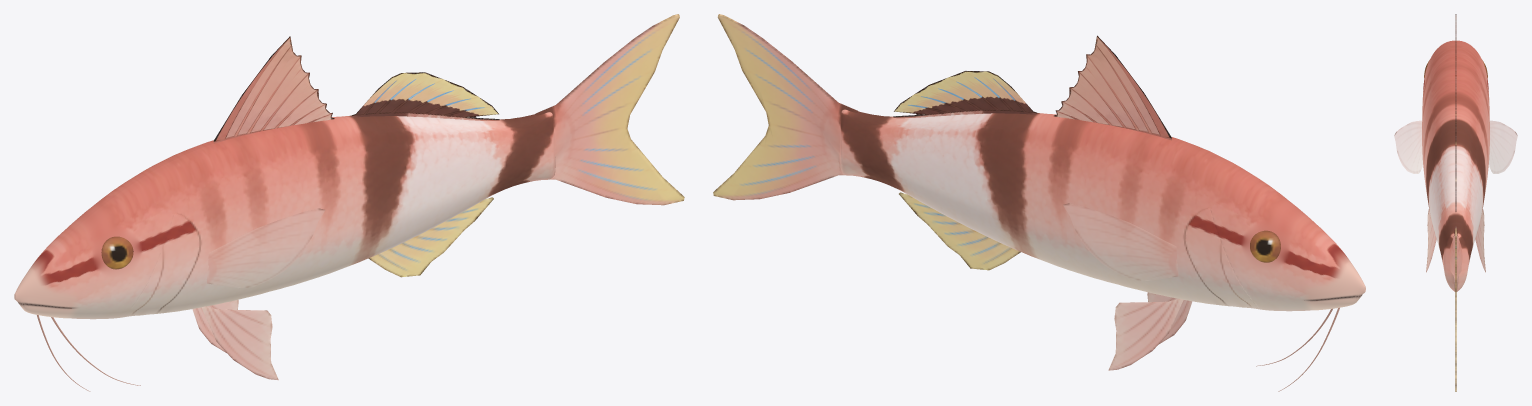
Rendered from ojisan-normal-v5.glb.
3 views of the same model, side by side, from view 1: azimuth 30°, elevation 25°; view 2: azimuth 150°, elevation 25°; view 3: azimuth 270°, elevation 25° (orthographic). The views are drawn at different scales.
Parts seen in each view (by area): view 1: body, caudal, dorsal_1, pectoral_1, dorsal_2, pelvic_1, operculum_1, anal, eye_1, pelvic_-1; view 2: body, caudal, dorsal_1, pectoral_-1, dorsal_2, pelvic_-1, operculum_-1, anal, eye_-1, pelvic_1; view 3: body, pectoral_-1, pectoral_1, caudal, pelvic_-1, pelvic_1, dorsal_2, dorsal_1.
Part boxes in pixels (x1,y1,x2,y2): body: (14, 112, 555, 319); caudal: (535, 14, 684, 205); dorsal_1: (213, 36, 334, 143); pectoral_1: (207, 208, 325, 288); dorsal_2: (351, 72, 499, 120); pelvic_1: (201, 306, 278, 380); operculum_1: (122, 213, 199, 317); anal: (368, 197, 493, 277); eye_1: (101, 236, 133, 269); pelvic_-1: (192, 300, 238, 352); body: (838, 109, 1365, 311); caudal: (713, 14, 858, 200); dorsal_1: (1054, 35, 1171, 140); pectoral_-1: (1063, 203, 1178, 280); dorsal_2: (893, 71, 1037, 118); pelvic_-1: (1108, 298, 1183, 370); operculum_-1: (1185, 208, 1260, 309); anal: (899, 192, 1020, 270); eye_-1: (1250, 230, 1280, 262); pelvic_1: (1147, 292, 1192, 343); body: (1422, 40, 1489, 291); pectoral_-1: (1489, 120, 1517, 173); pectoral_1: (1394, 120, 1422, 173); caudal: (1449, 226, 1462, 391); pelvic_-1: (1475, 209, 1485, 272); pelvic_1: (1426, 209, 1436, 272); dorsal_2: (1455, 111, 1456, 212); dorsal_1: (1455, 14, 1456, 109).
Bounding box in the file's own units: 0.25 × 0.1155 × 0.0479.
Materials: 5 (5 with a texture image).
